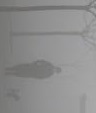person: (5, 60, 61, 81)
